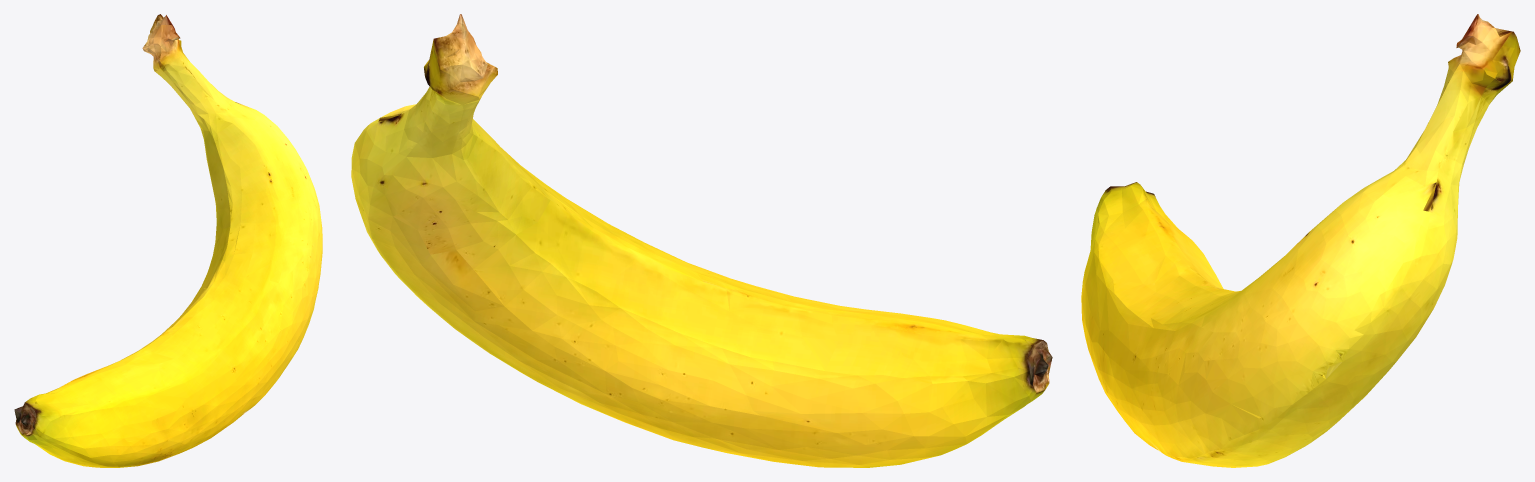
File: banana-transformed.glb
3 views of the same model, side by side, from view 1: azimuth 30°, elevation 25°; view 2: azimuth 150°, elevation 25°; view 3: azimuth 270°, elevation 25° (orthographic). The views are drawn at different scales.
Visible parts, largest first — view 1: banana; view 2: banana; view 3: banana.
Part boxes in pixels (left/top/right/bottom): banana: left=14, top=14, right=322, bottom=467; banana: left=351, top=14, right=1052, bottom=467; banana: left=1081, top=14, right=1520, bottom=467.
Bounding box in the file's own units: 5.94 × 5.19 × 4.19.
Materials: 1 (1 with a texture image).
